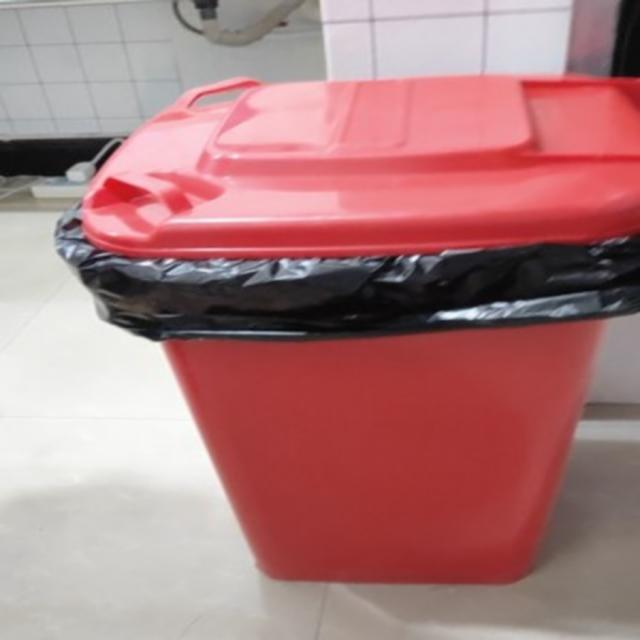ash bin: (68, 69, 630, 584)
